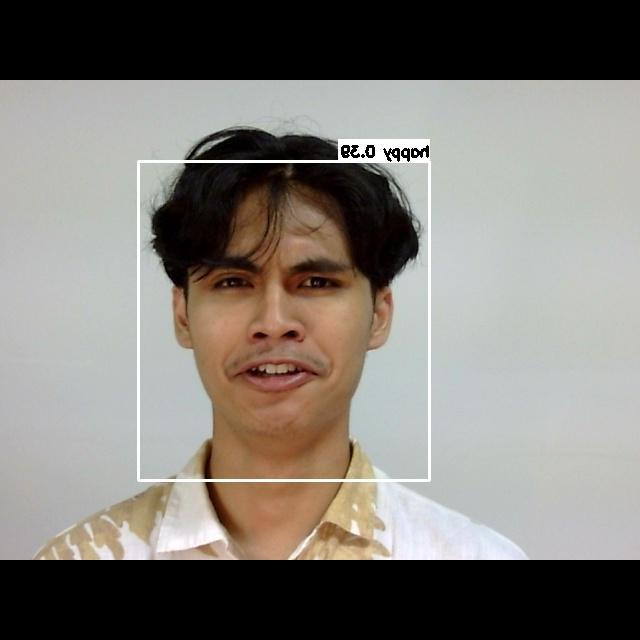Fear: (181, 223, 387, 426)
